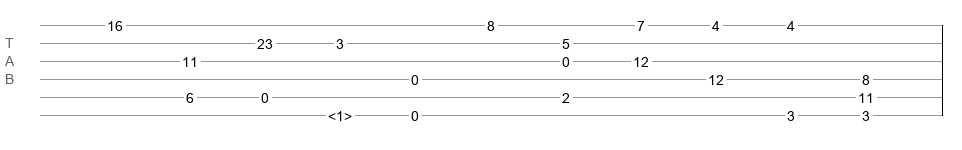0: (261, 90, 269, 100), (411, 108, 419, 118), (411, 72, 419, 82), (562, 54, 570, 64)
11: (182, 54, 198, 64), (858, 90, 874, 100)
12: (633, 54, 649, 64), (708, 72, 724, 82)
16: (107, 18, 123, 28)
2: (562, 90, 570, 100)
23: (257, 36, 273, 46)
3: (336, 36, 344, 46), (787, 108, 795, 118), (862, 108, 870, 118)
4: (712, 18, 720, 28), (787, 18, 795, 28)
5: (562, 36, 570, 46)
6: (186, 90, 194, 100)
7: (637, 18, 645, 28)
8: (487, 18, 495, 28), (862, 72, 870, 82)
harmonic: (328, 108, 352, 118)
